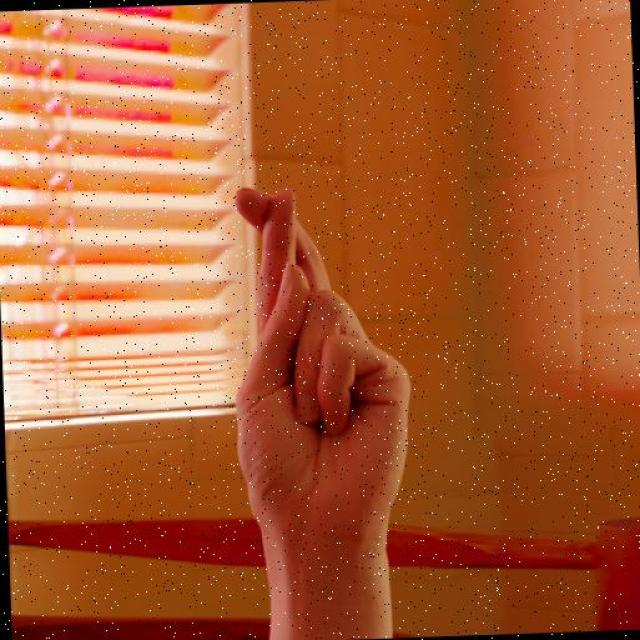R: (221, 173, 420, 549)
